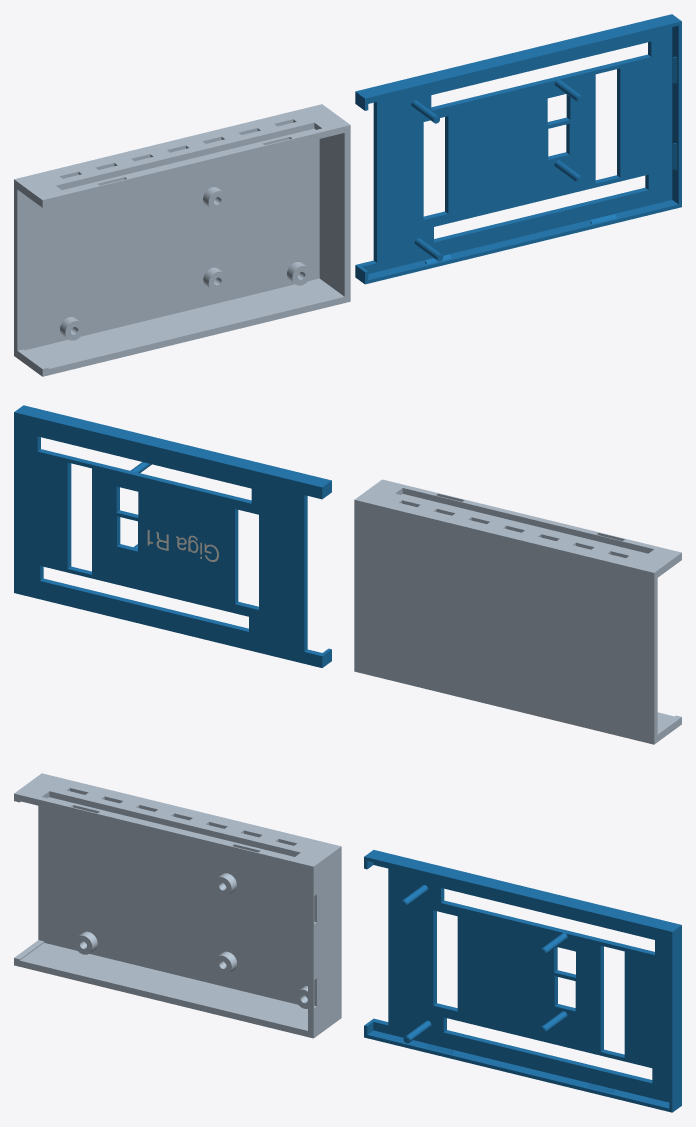
Rendered from .arduino_giga_r1_enclosure_snapfit_print_layout_pre_double_receiver_rail.step.glb.
3 renders of one model, top to bottom at view 1: azimuth 30°, elevation 25°; view 2: azimuth 150°, elevation 25°; view 3: azimuth 330°, elevation 25°, orthographic. The views are drawn at different scales.
Visible parts, largest first — view 1: o1.1, o1.2.1; view 2: o1.1, o1.2.1; view 3: o1.1, o1.2.1.
Part boxes in pixels (bbox=[...]): o1.1: bbox=[14, 104, 350, 376]; o1.2.1: bbox=[355, 14, 681, 284]; o1.1: bbox=[354, 479, 681, 744]; o1.2.1: bbox=[14, 405, 331, 667]; o1.1: bbox=[14, 773, 341, 1038]; o1.2.1: bbox=[364, 850, 681, 1112].
Bounding box in the file's own units: 0.2392 × 0.0645 × 0.018.
